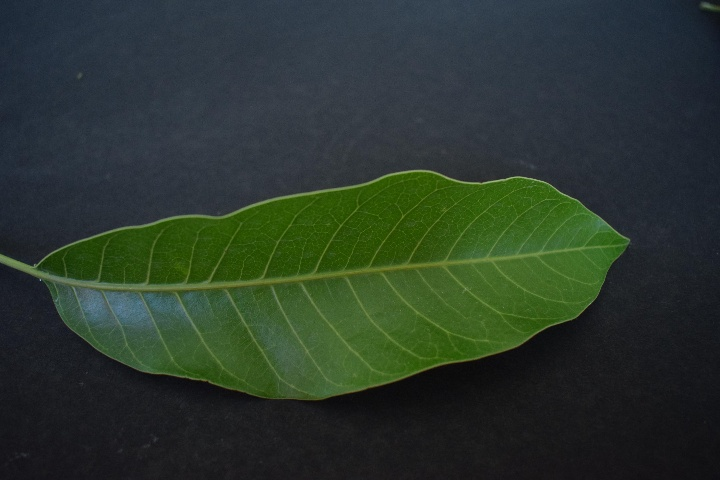healthy: (38, 167, 638, 397)
